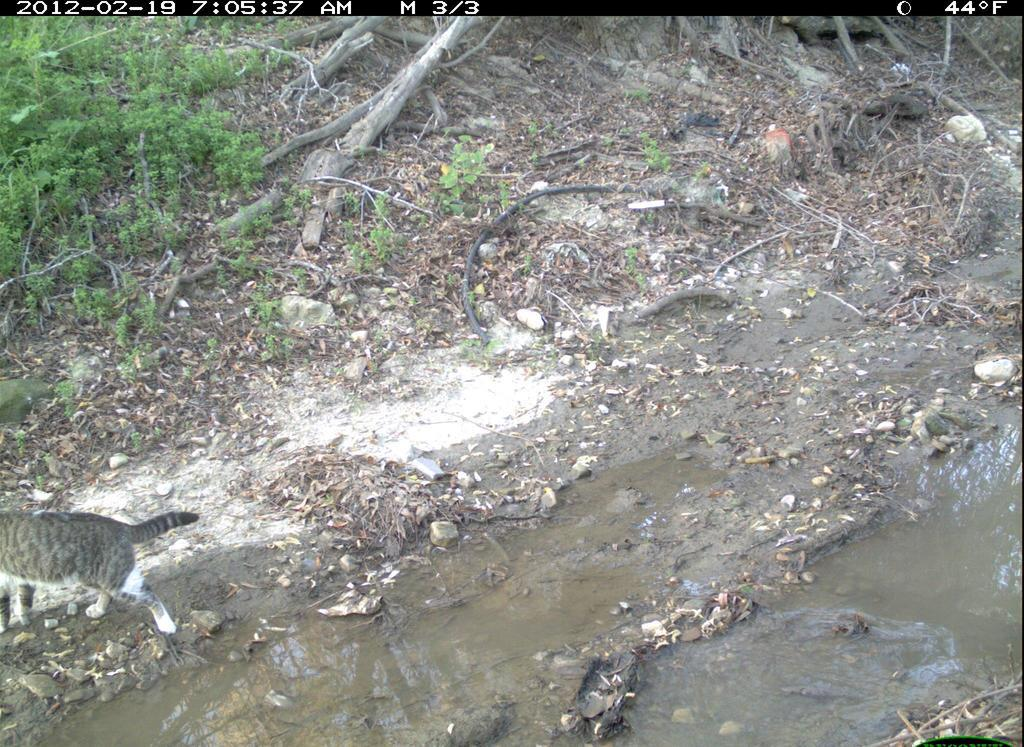cat: (1, 500, 191, 650)
